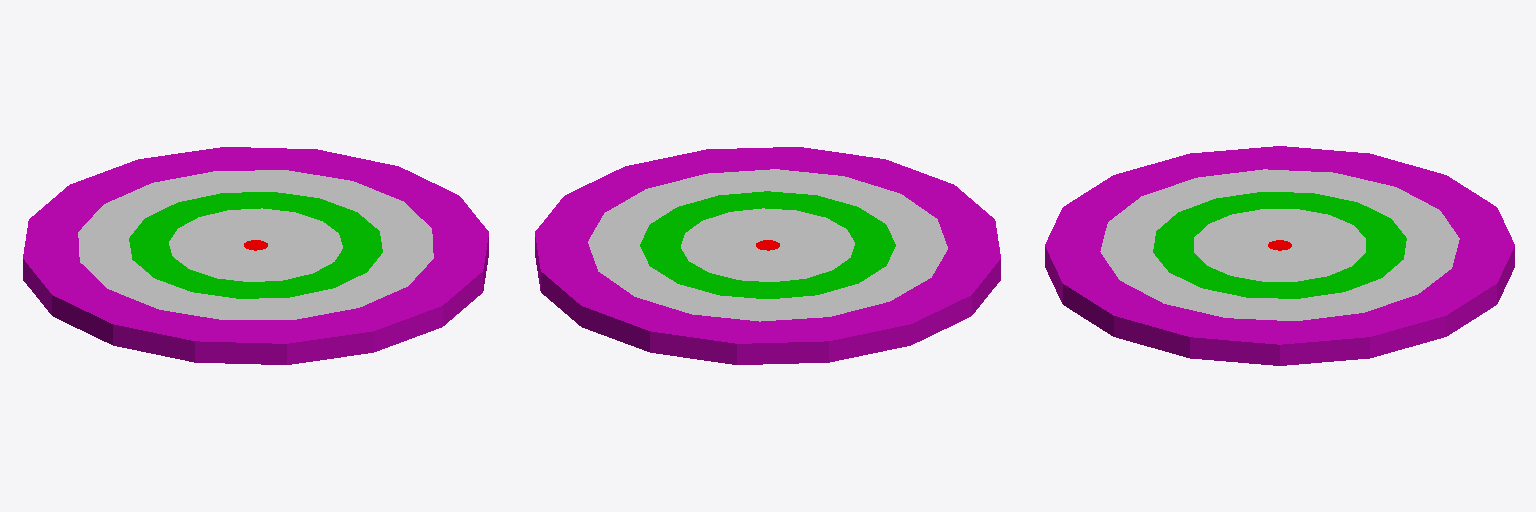
The model's file is target.obj.
3 views of the same model, side by side, from view 1: azimuth 30°, elevation 25°; view 2: azimuth 150°, elevation 25°; view 3: azimuth 270°, elevation 25° (orthographic).
Visible parts, largest first — view 1: Circle; view 2: Circle; view 3: Circle.
Part boxes in pixels (x1,y1,x2,y2): Circle: (23,147,488,364); Circle: (535,147,1000,364); Circle: (1045,146,1514,365).
Size of the model in its own units: 2 by 0.1 by 2.